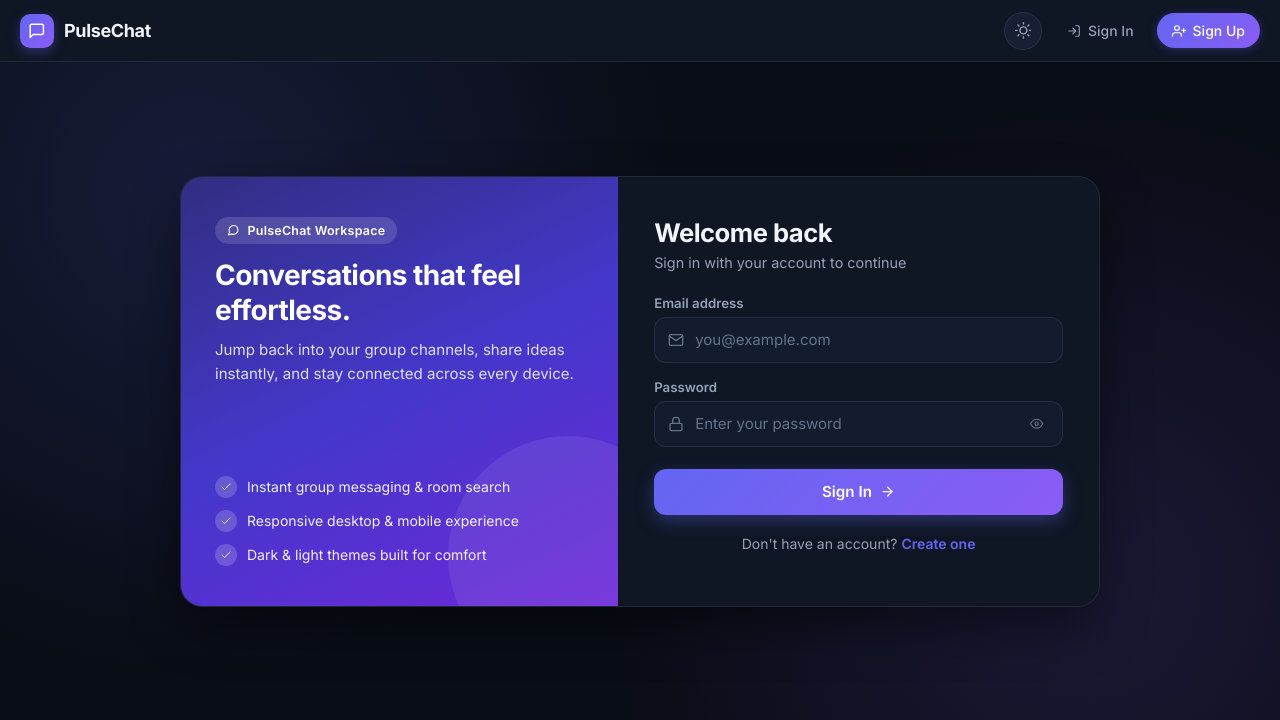
toggles dark and light theme from navbar
This screenshot has width=1280, height=720.
Click the button named "switch to light mode" at (1023, 30), box [1004, 12, 1042, 50]
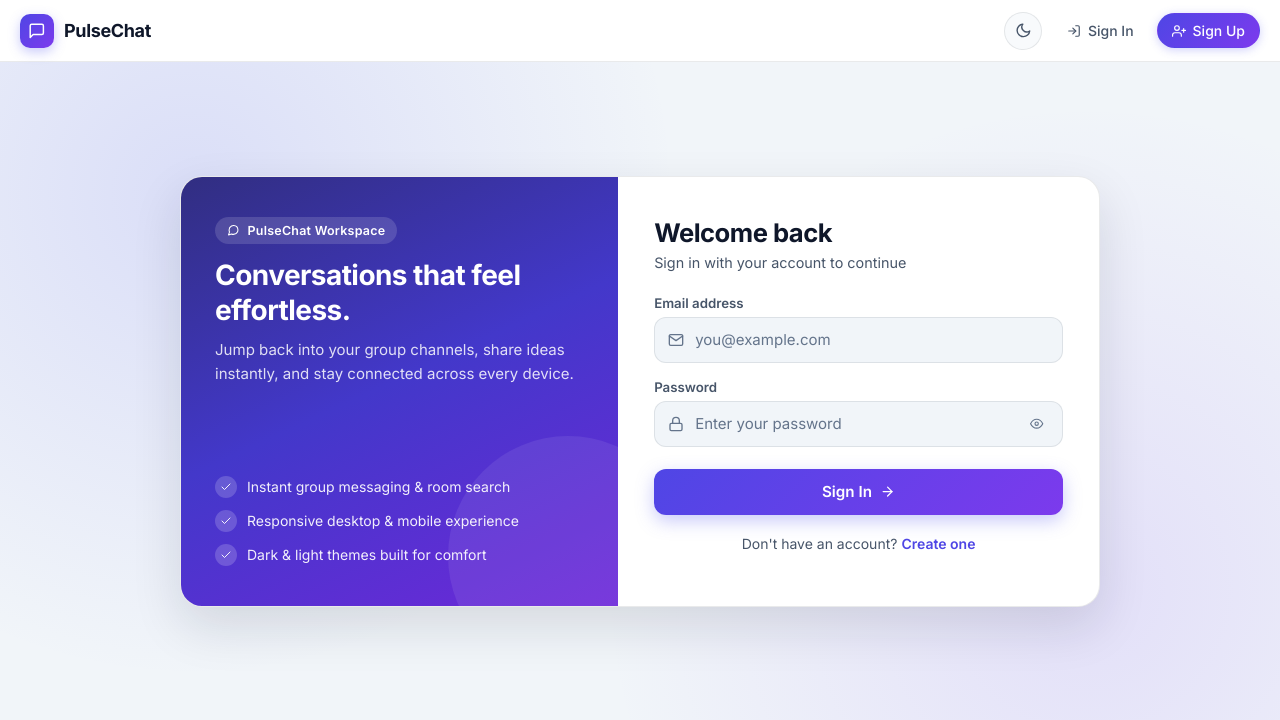
Expected: the button named "switch to dark mode" is shown, [1004, 12, 1042, 50]
